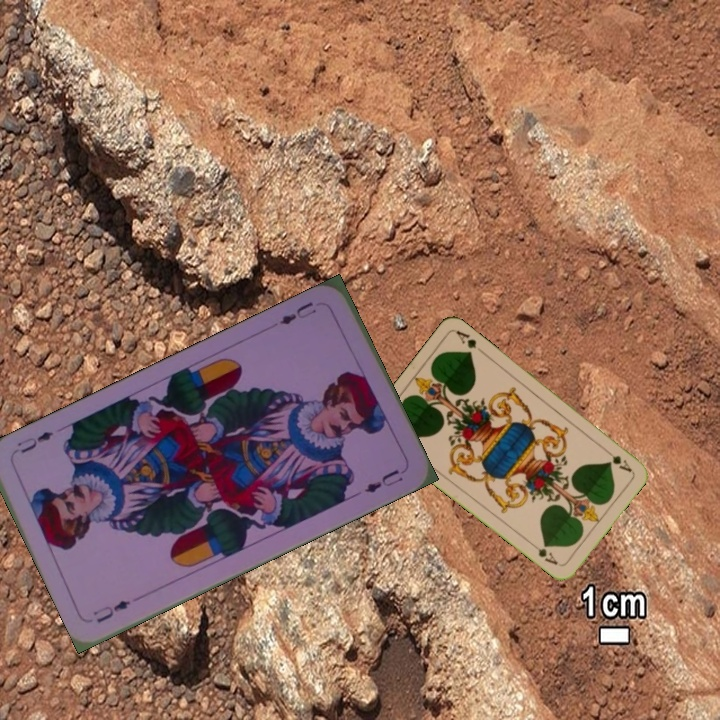EU: (89, 596, 133, 626), (276, 298, 319, 328)
GA: (600, 445, 635, 475)
